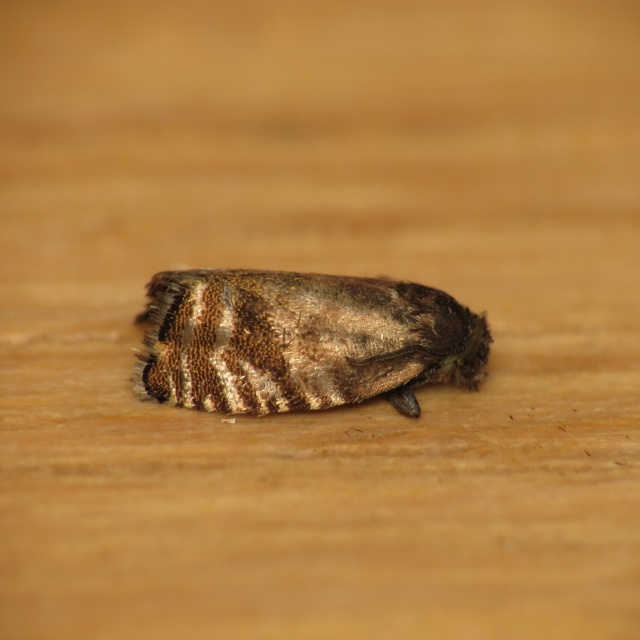Moths and butterflies: (128, 267, 498, 421)
